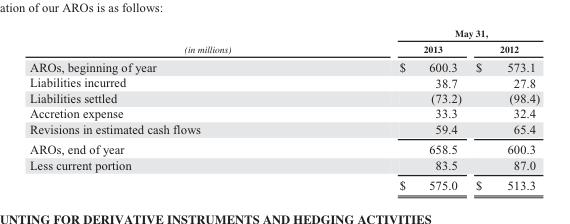table: (29, 29, 539, 192)
table column: (29, 29, 314, 192), (314, 29, 467, 192), (467, 29, 539, 192)
table column header: (29, 29, 539, 57)
table row: (29, 121, 539, 139), (29, 139, 539, 157), (29, 157, 539, 175), (29, 57, 539, 74), (29, 175, 539, 192), (29, 41, 539, 57), (29, 74, 539, 90), (29, 105, 539, 121), (29, 90, 539, 105), (29, 29, 539, 41)
table spanning cell: (29, 29, 314, 57), (314, 29, 539, 41)
